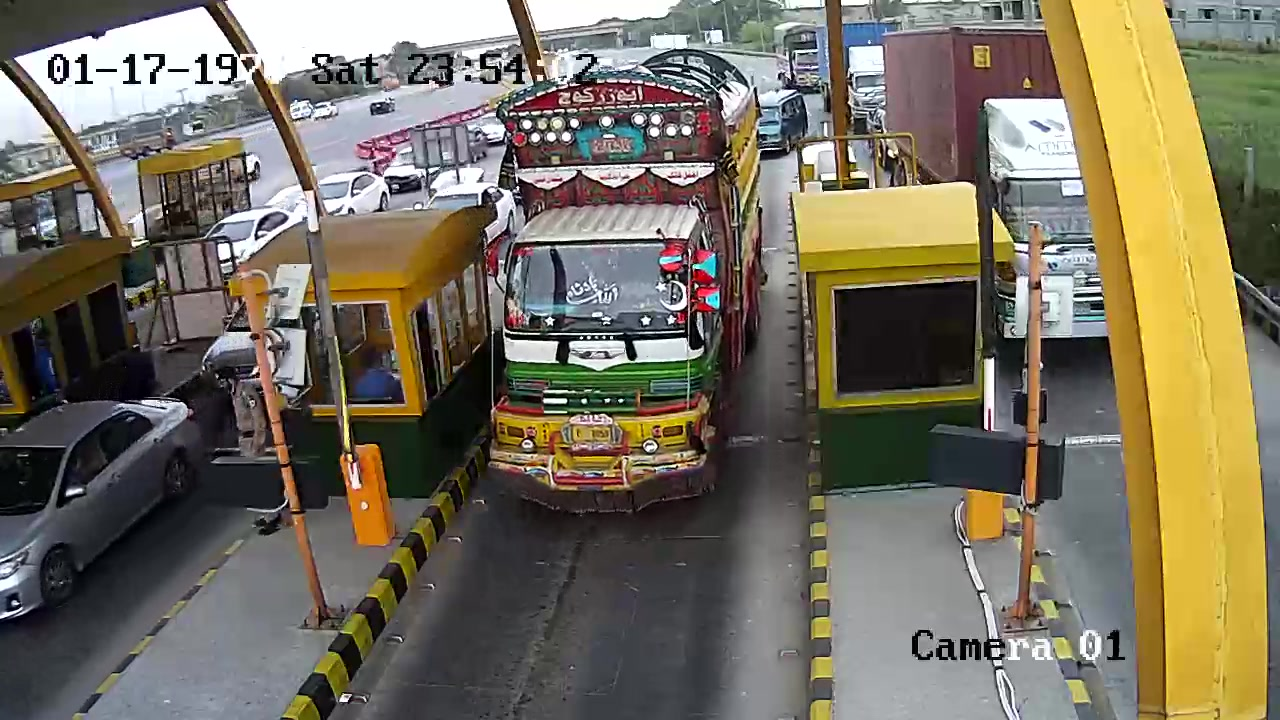F5: (485, 48, 769, 516)
